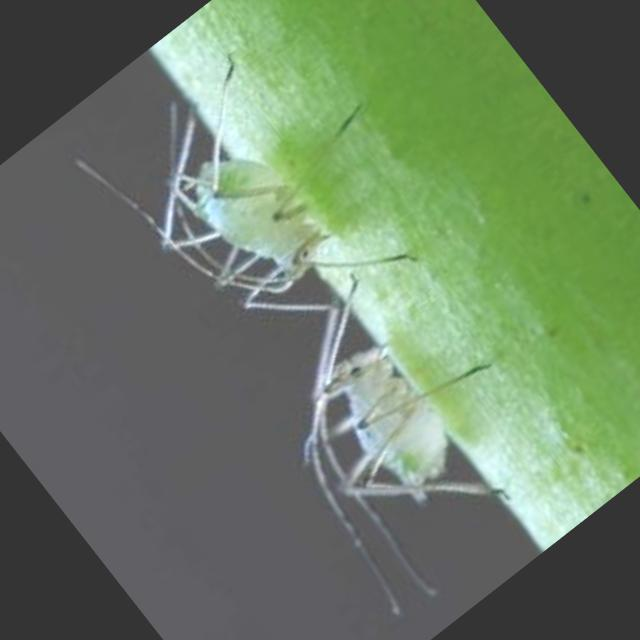Green peach aphid: (33, 0, 441, 396), (192, 274, 556, 632)
